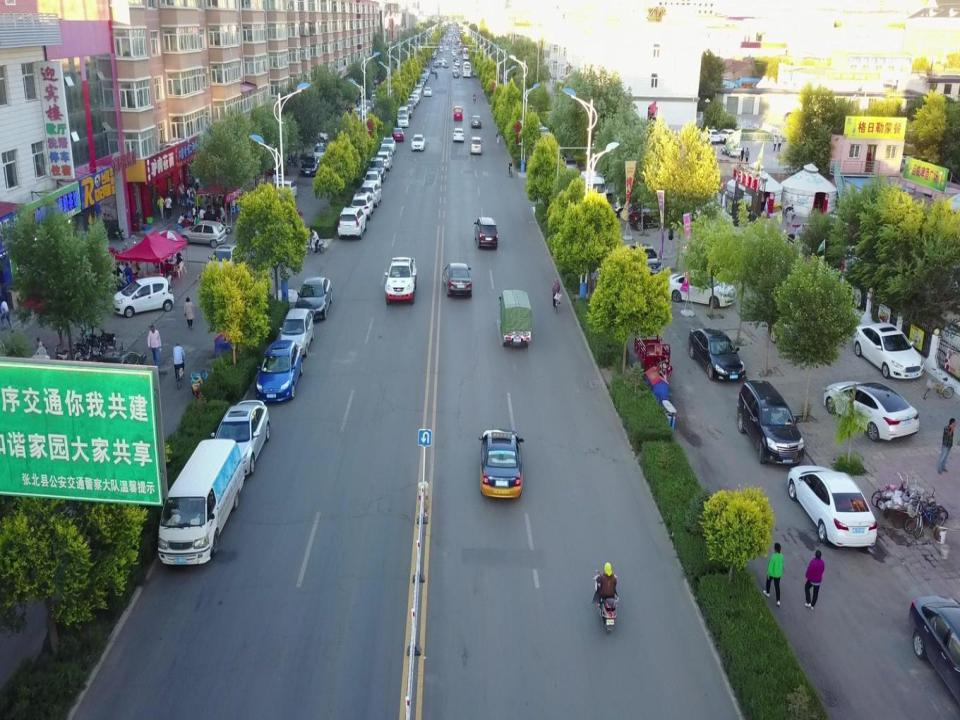bus: (433, 22, 463, 50), (463, 62, 470, 78), (463, 47, 469, 59)
car: (787, 461, 877, 547), (822, 378, 922, 441), (735, 379, 804, 466), (908, 596, 960, 707), (208, 398, 269, 476), (853, 322, 924, 379), (689, 325, 744, 381), (478, 428, 523, 496), (255, 342, 303, 404), (666, 269, 737, 308), (110, 277, 174, 316), (98, 349, 144, 397), (278, 308, 313, 358), (293, 278, 332, 320), (177, 221, 225, 248), (206, 242, 241, 279), (629, 204, 666, 232), (337, 207, 368, 239), (444, 264, 472, 298), (635, 244, 662, 278), (613, 196, 649, 218), (352, 192, 374, 222), (359, 184, 382, 208), (275, 181, 297, 202), (369, 157, 387, 182), (362, 170, 381, 190), (300, 156, 319, 176), (783, 111, 808, 124), (306, 129, 329, 143), (563, 156, 578, 176), (718, 127, 736, 143), (376, 152, 392, 170), (721, 144, 743, 157), (700, 129, 720, 143), (411, 134, 425, 150), (381, 137, 398, 150), (470, 115, 484, 129), (378, 145, 392, 159), (452, 127, 464, 143), (397, 114, 409, 128), (392, 127, 404, 141), (454, 106, 463, 120), (539, 126, 549, 138), (405, 105, 414, 118), (408, 95, 419, 105), (406, 98, 416, 108), (358, 105, 366, 117), (370, 92, 378, 103), (423, 87, 431, 97), (414, 84, 422, 92), (422, 73, 429, 82), (431, 67, 437, 73), (421, 76, 426, 83), (438, 58, 446, 62), (453, 71, 458, 77), (455, 69, 461, 74), (452, 66, 457, 72), (419, 80, 424, 86), (444, 62, 449, 67), (424, 70, 429, 75), (455, 61, 459, 67), (434, 61, 438, 67), (453, 58, 458, 62), (442, 61, 446, 66), (419, 85, 422, 91)
truck: (499, 287, 532, 349), (386, 255, 418, 301), (581, 170, 606, 206)
van: (156, 440, 244, 566), (475, 217, 498, 248), (312, 143, 328, 160), (470, 136, 482, 156), (397, 106, 408, 121), (360, 100, 371, 114), (352, 108, 361, 122), (412, 90, 420, 102)
